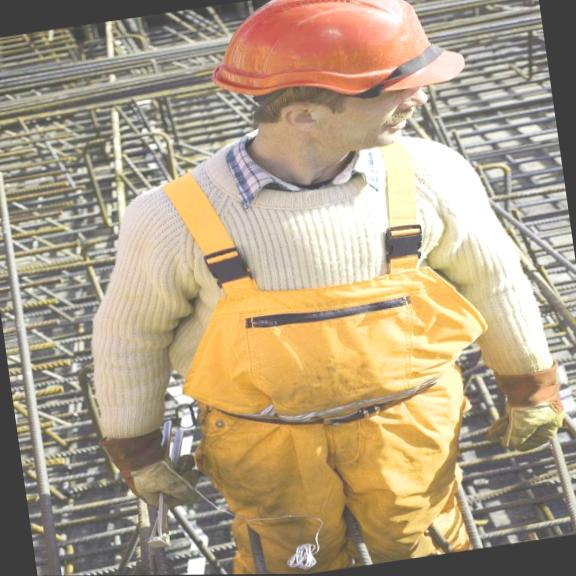no_safety_vest: (161, 138, 463, 424)
